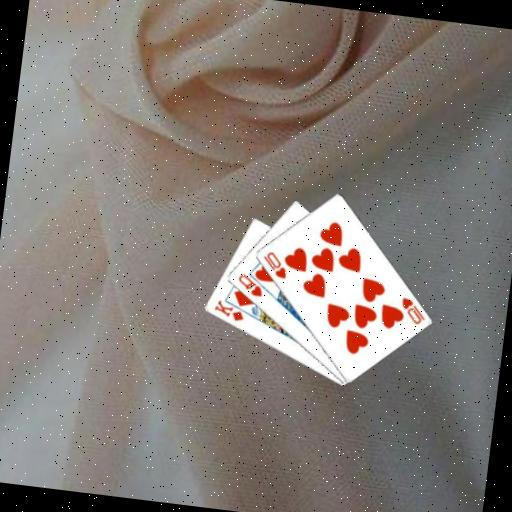10H: (258, 248, 290, 281), (397, 294, 429, 327)
KD: (210, 297, 247, 324)
QH: (233, 270, 266, 299)
